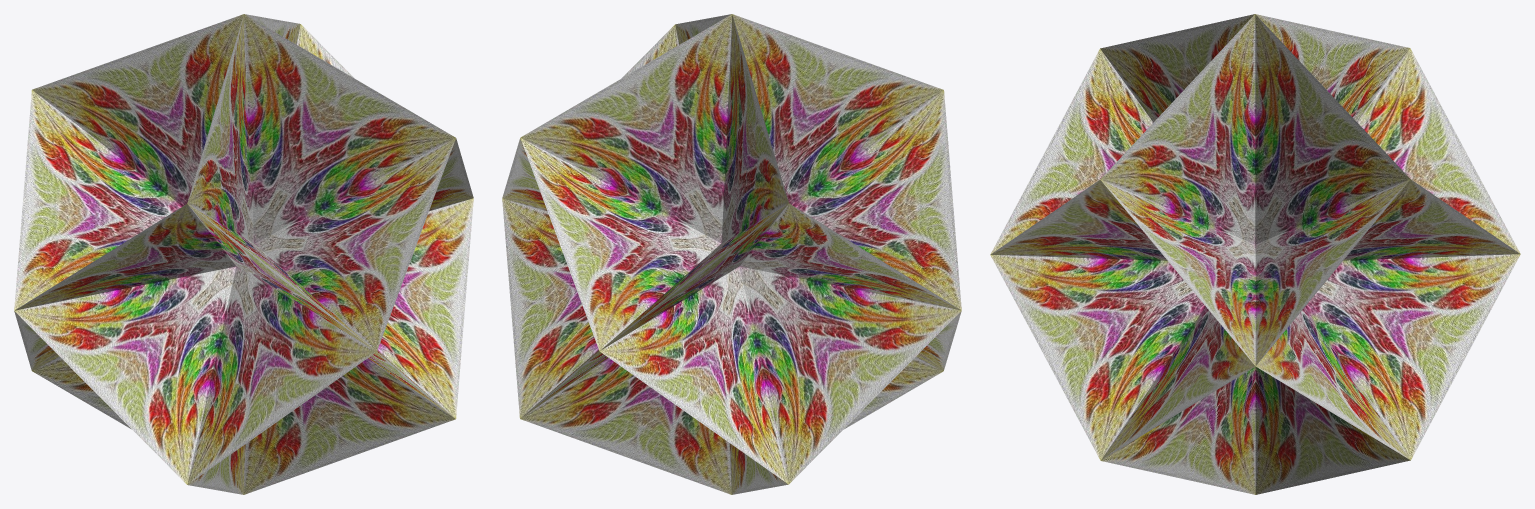
The model's file is Mobius48b_7.obj.
3 views of the same model, side by side, from view 1: azimuth 30°, elevation 25°; view 2: azimuth 150°, elevation 25°; view 3: azimuth 270°, elevation 25° (orthographic).
Bounding box in the file's own units: 2.16 × 2.16 × 2.16.
Materials: 1 (1 with a texture image).
